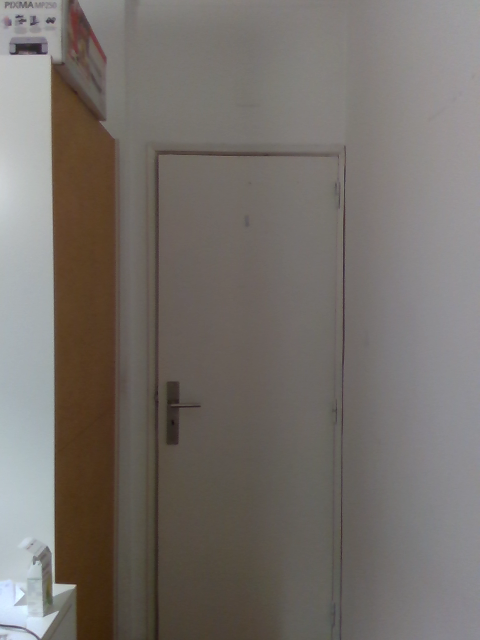closed: (150, 144, 341, 633)
